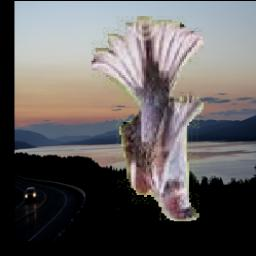Sparrow: (93, 17, 205, 222)
